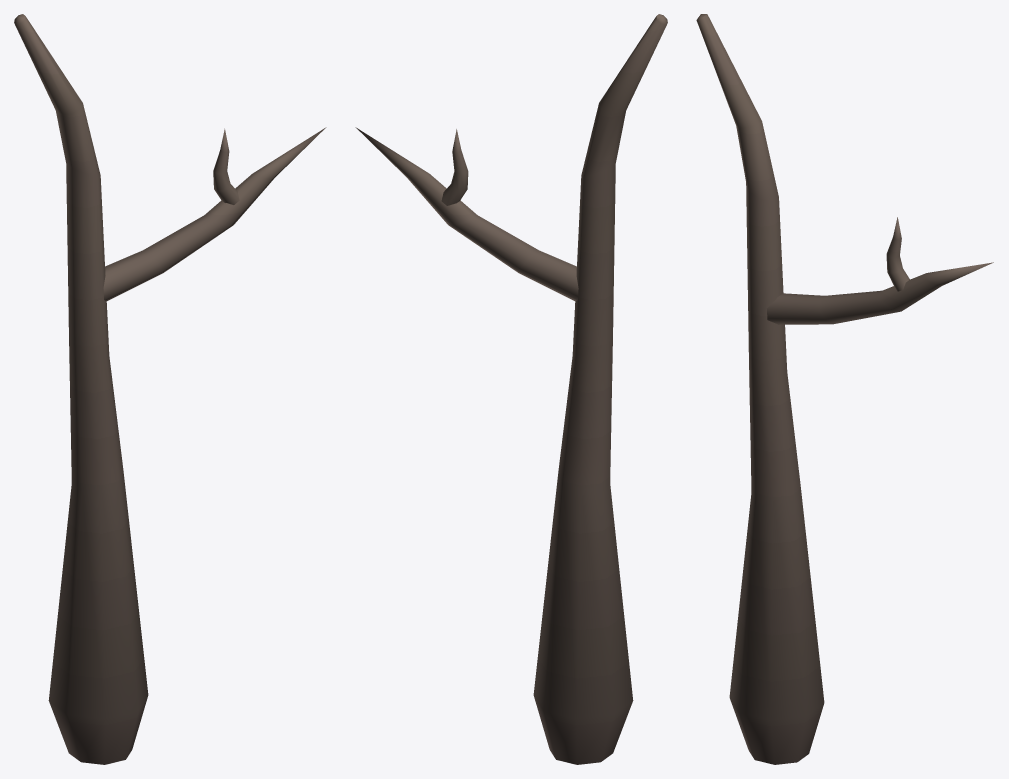
Rendered from hb_tree_dead_medium.glb.
3 renders of one model, left to right at view 1: azimuth 30°, elevation 25°; view 2: azimuth 150°, elevation 25°; view 3: azimuth 330°, elevation 25°, orthographic. The views are drawn at different scales.
Visible parts, largest first — view 1: tree_dead_medium; view 2: tree_dead_medium; view 3: tree_dead_medium.
Boxes of the visible parts, x1,y1,x2,y2 form: tree_dead_medium: [14, 14, 326, 764]; tree_dead_medium: [355, 14, 667, 764]; tree_dead_medium: [696, 14, 993, 764].
Bounding box in the file's own units: 1.94 × 4.5 × 0.5013.
Materials: 1 (1 with a texture image).
